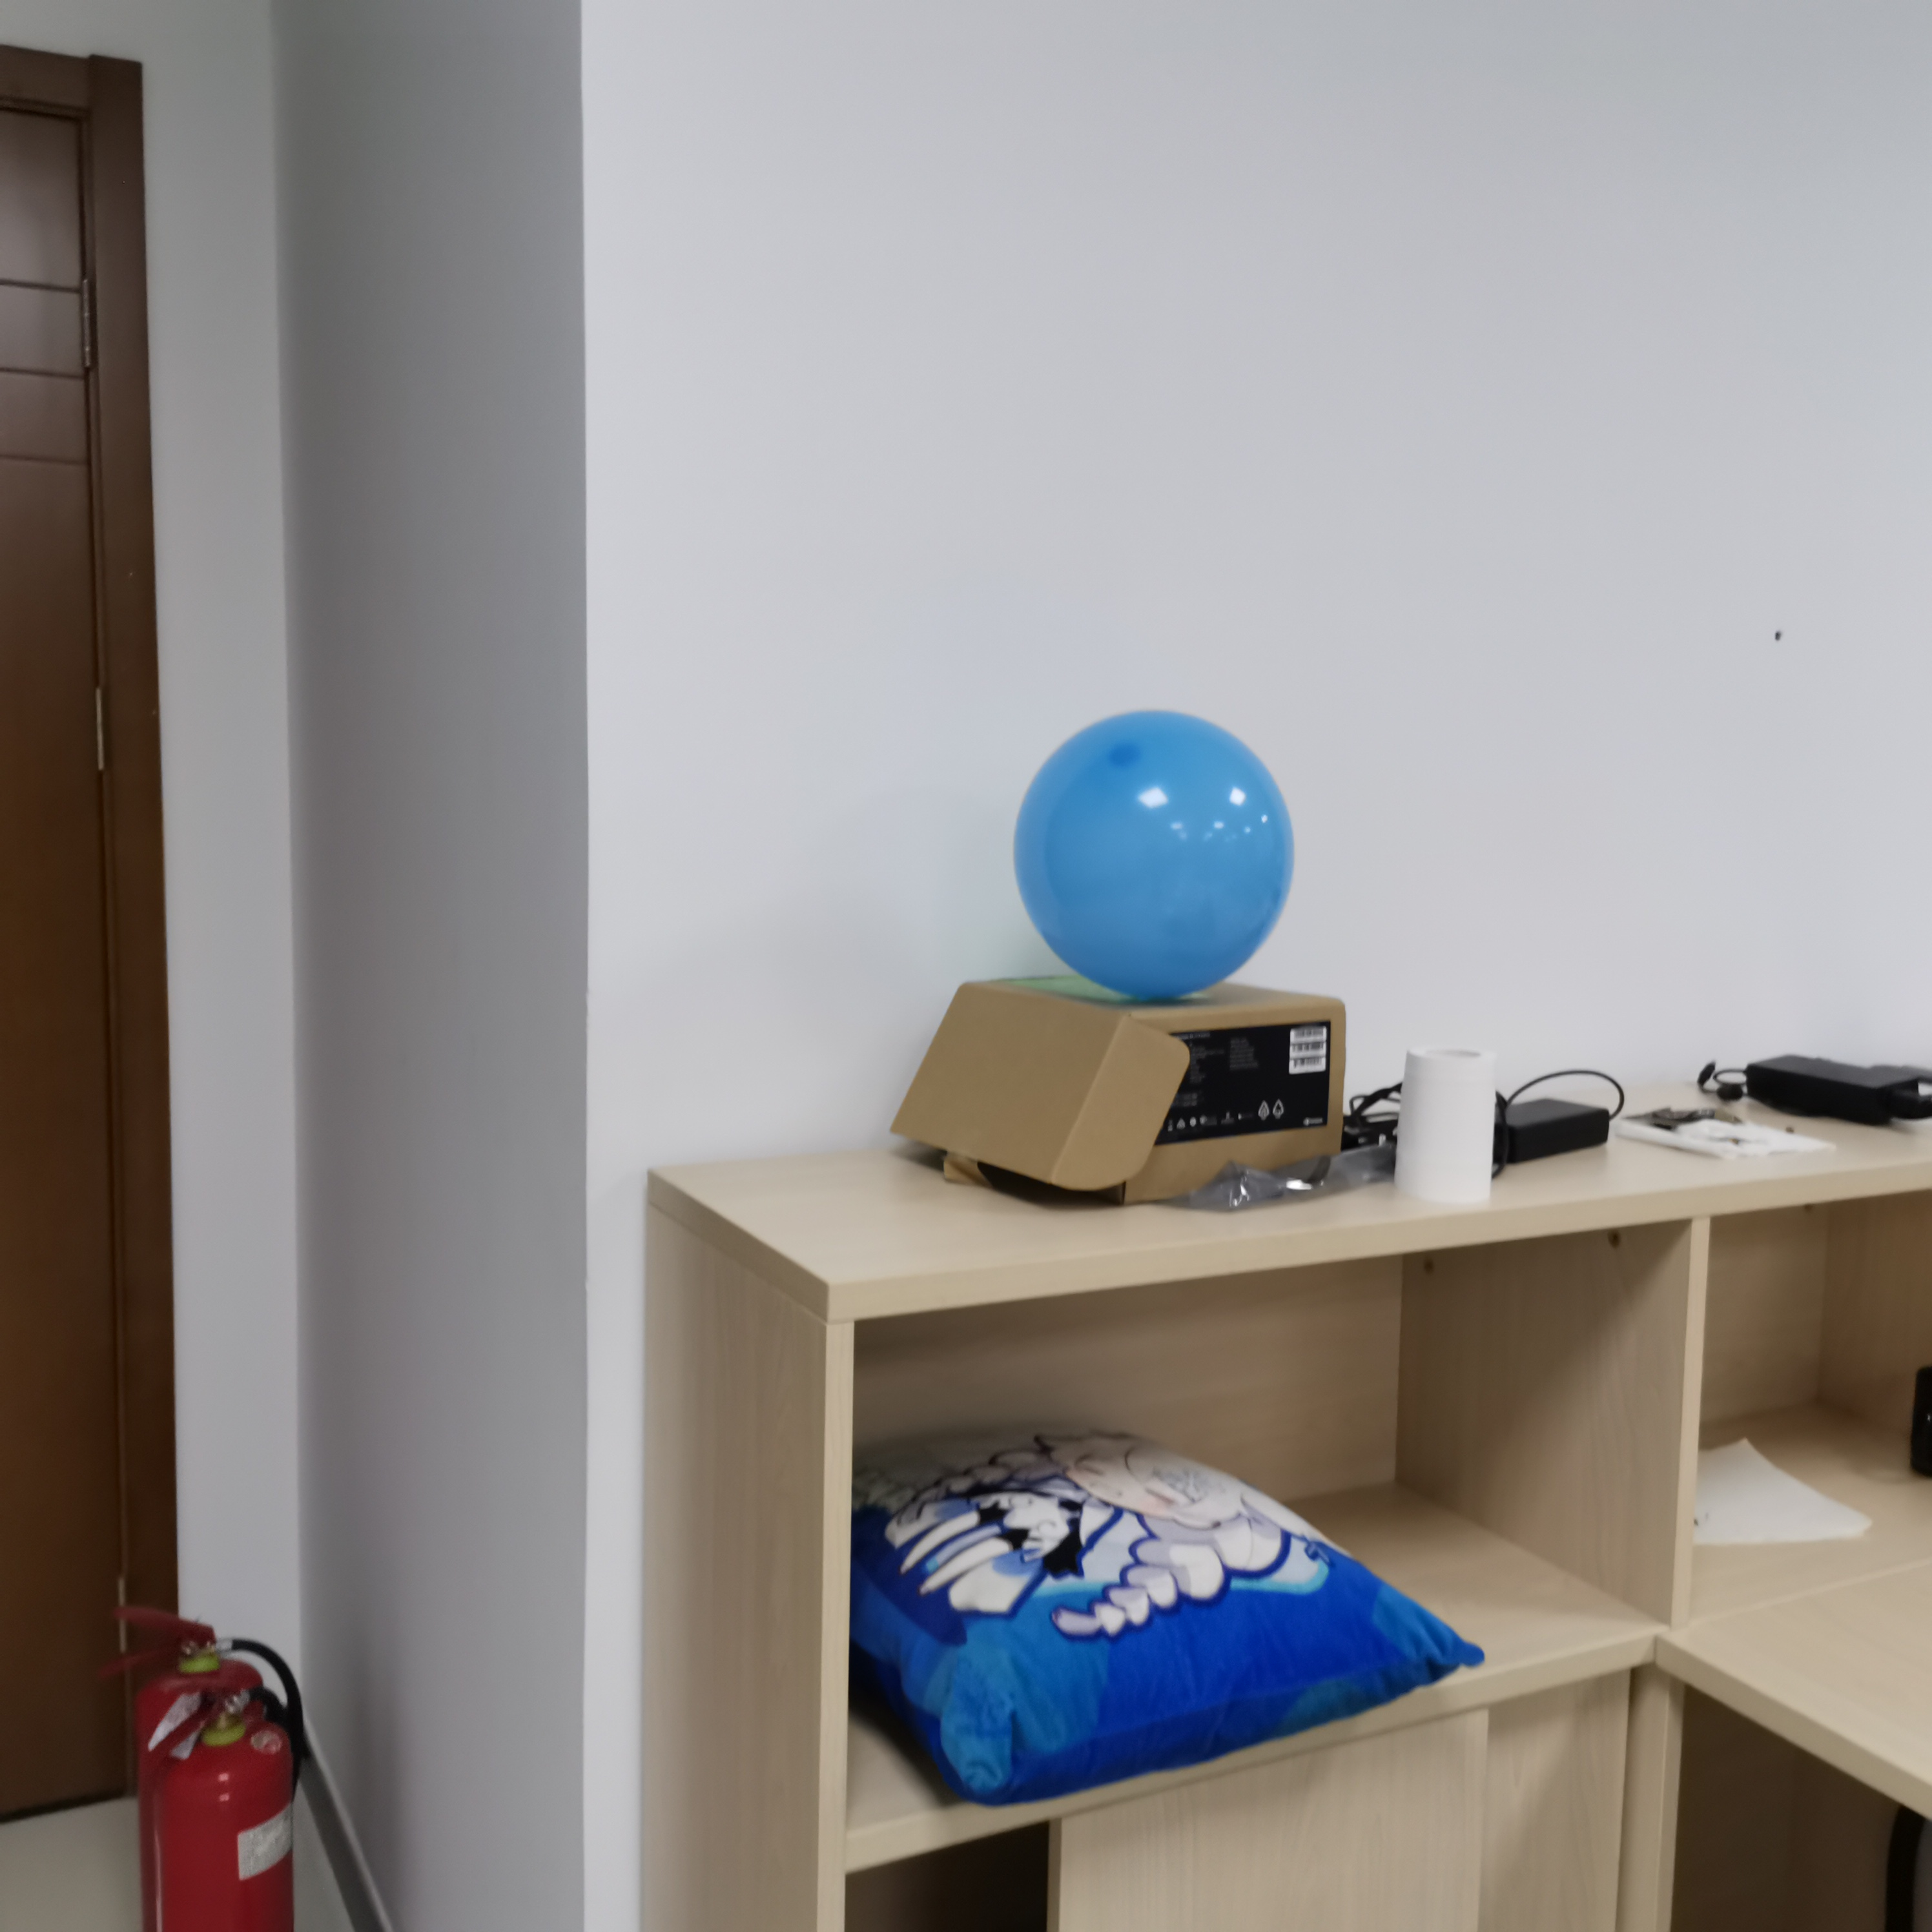balloon: (1012, 709, 1293, 998)
